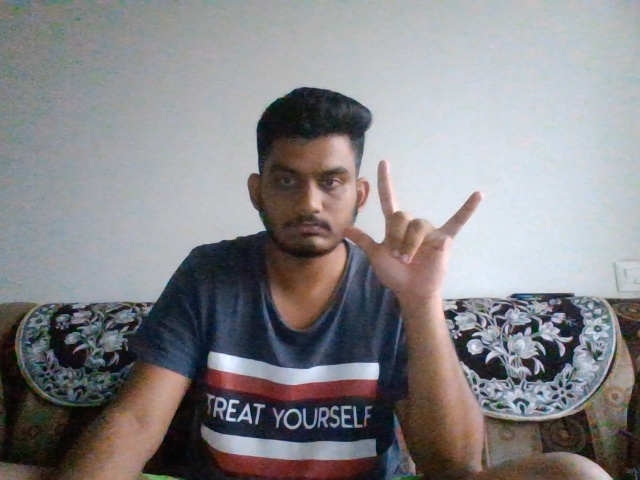I Love You: (343, 161, 490, 306)
